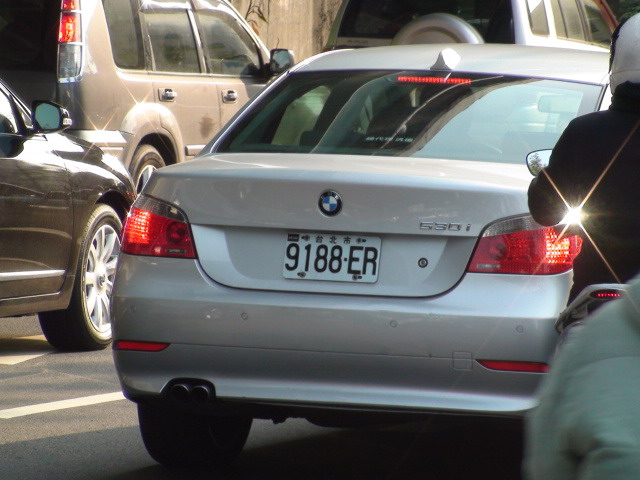plate: (282, 229, 380, 285)
